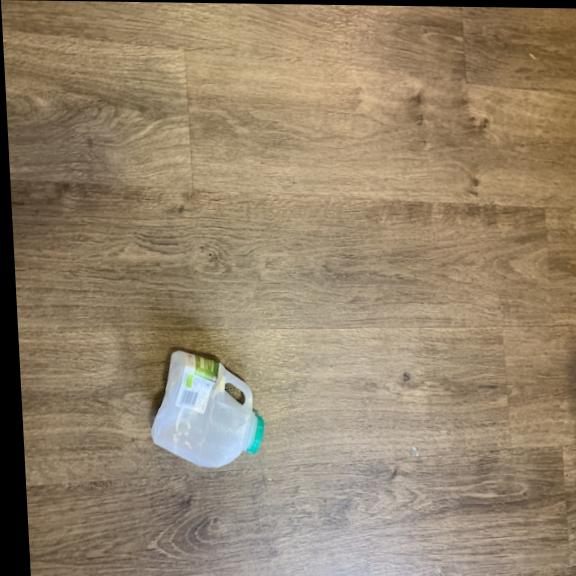Plastik: (142, 342, 266, 481)
